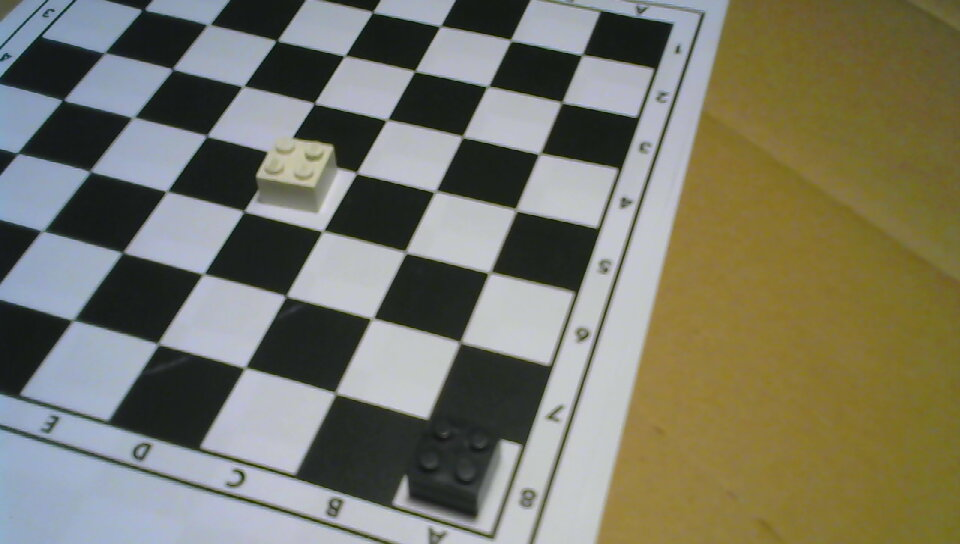bp: (405, 416, 502, 517)
wp: (254, 136, 336, 212)
